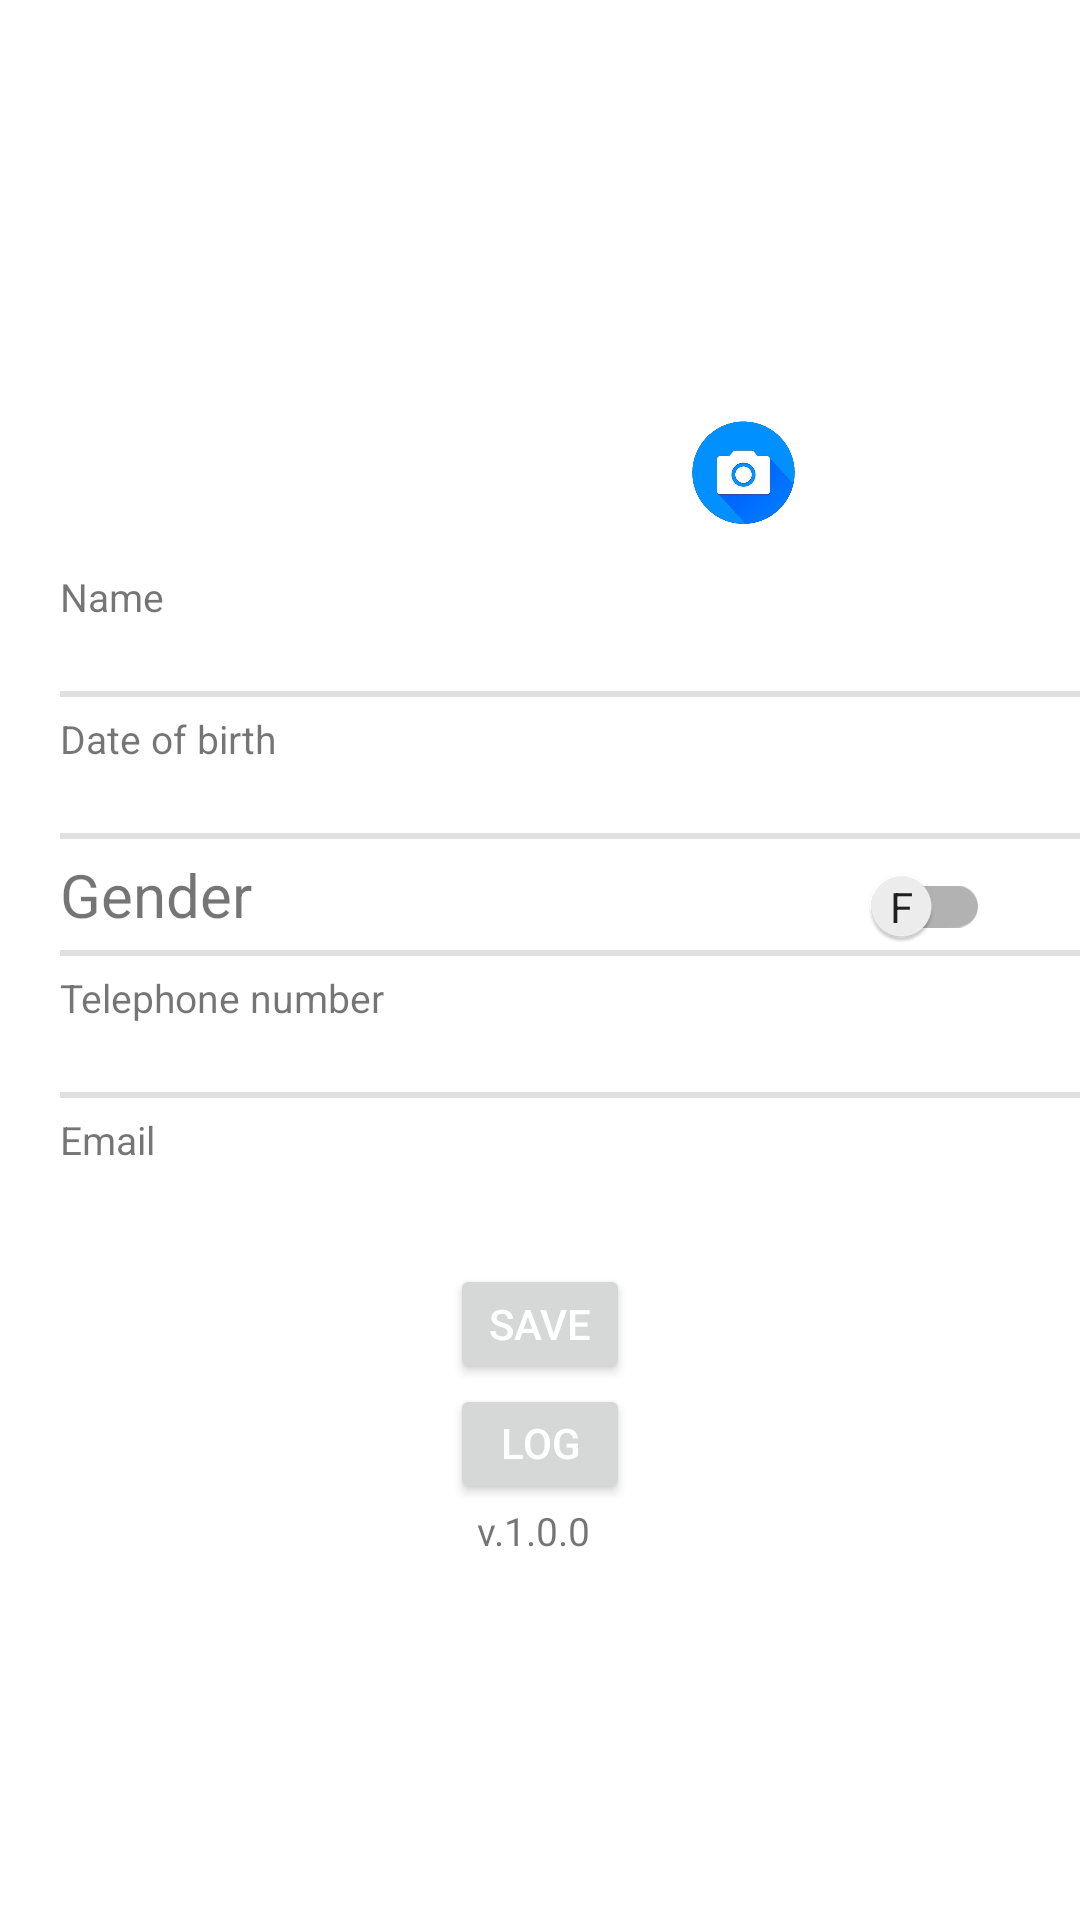

Icons on this 1080 × 1920 Android screen, each with the point to tap as [x,y]:
pickprofilepic: [743,472]
